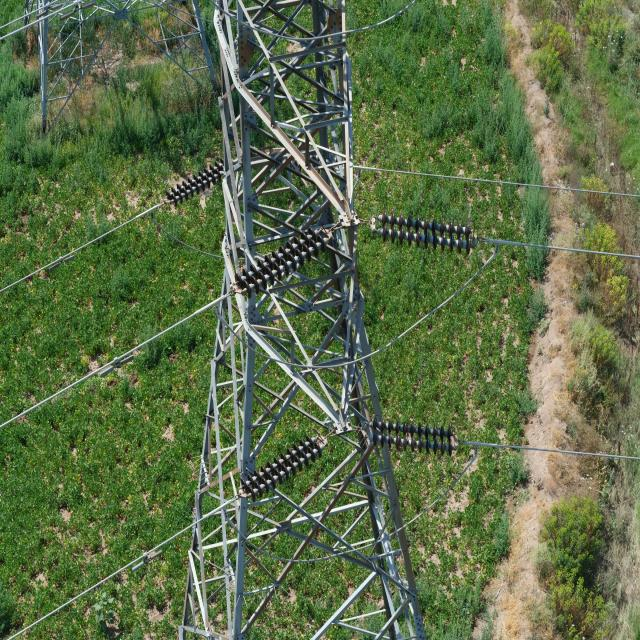direk: (175, 0, 432, 640), (42, 0, 218, 147)
